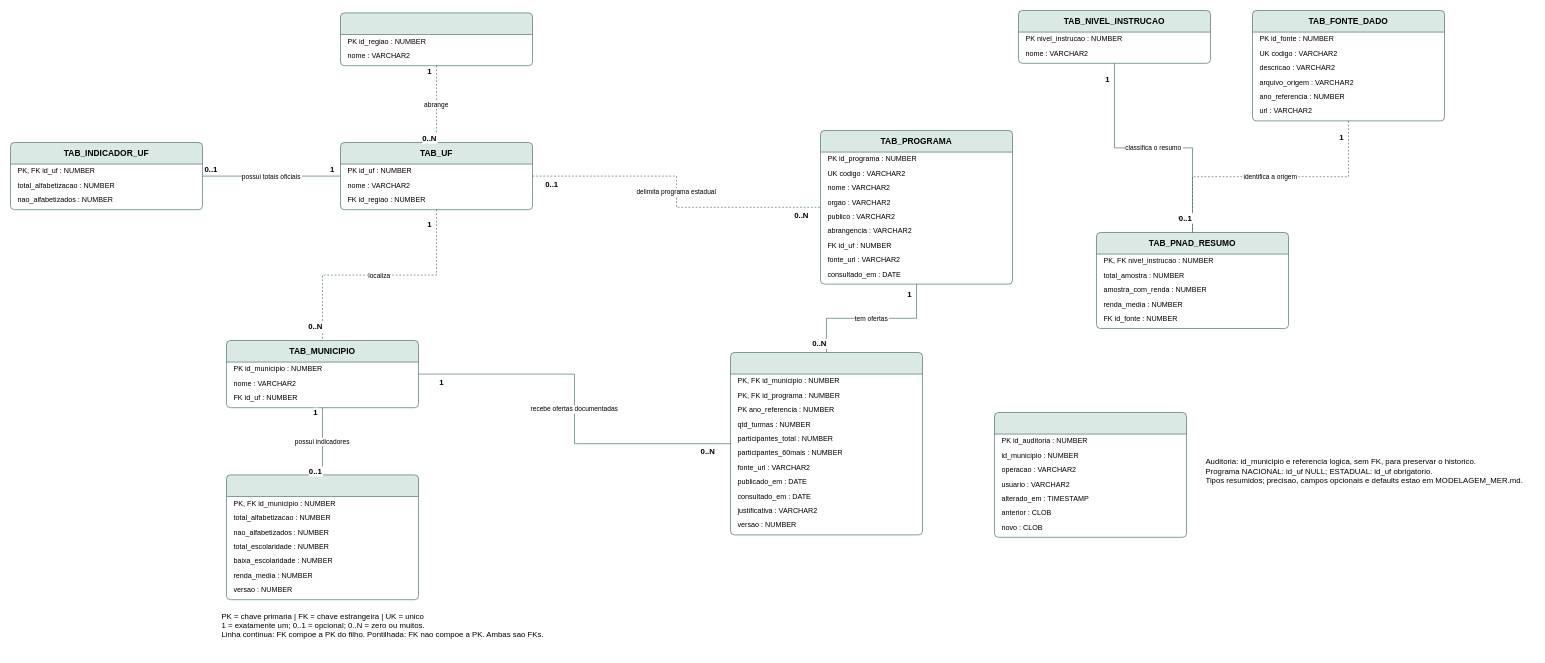
The diagram is 1545 pixels wide and 663 high, and some of its shapes have lost their labels. Here are the shapes that lost their labels. From the top down, the box of each, then its label:
(340, 12, 532, 66): TAB_REGIAO
(730, 352, 922, 535): TAB_MUNICIPIO_PROGRAMA
(994, 412, 1186, 537): TAB_AUDITORIA_INDICADOR
(226, 474, 418, 600): TAB_INDICADOR_MUNICIPIO
